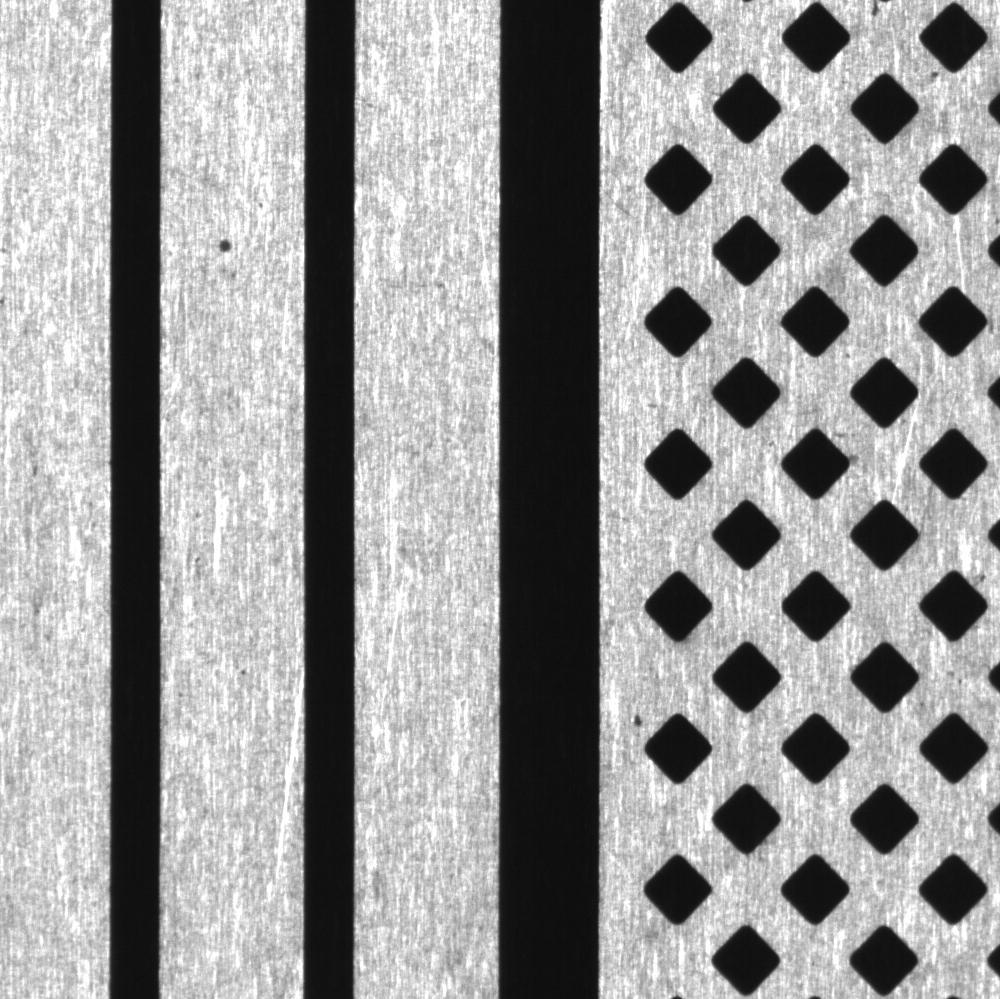Etching: (615, 693, 653, 742)
Pinhole: (206, 227, 239, 263), (224, 651, 259, 684)
Scar: (602, 145, 639, 233)
